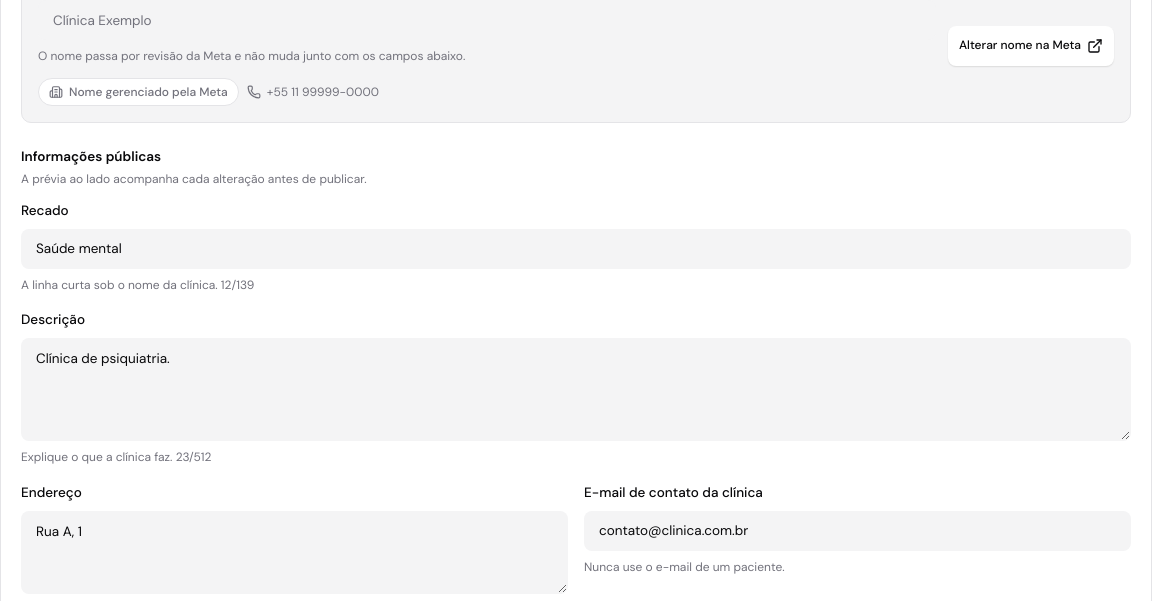
salvar › passa a exibir o que a Meta devolveu, não o que foi digitado
(page scrolled)
Replace the text in the field labelled "Recado" with "o que eu digitei": coordinates (576, 249) [21, 229, 1131, 269]
(page scrolled)
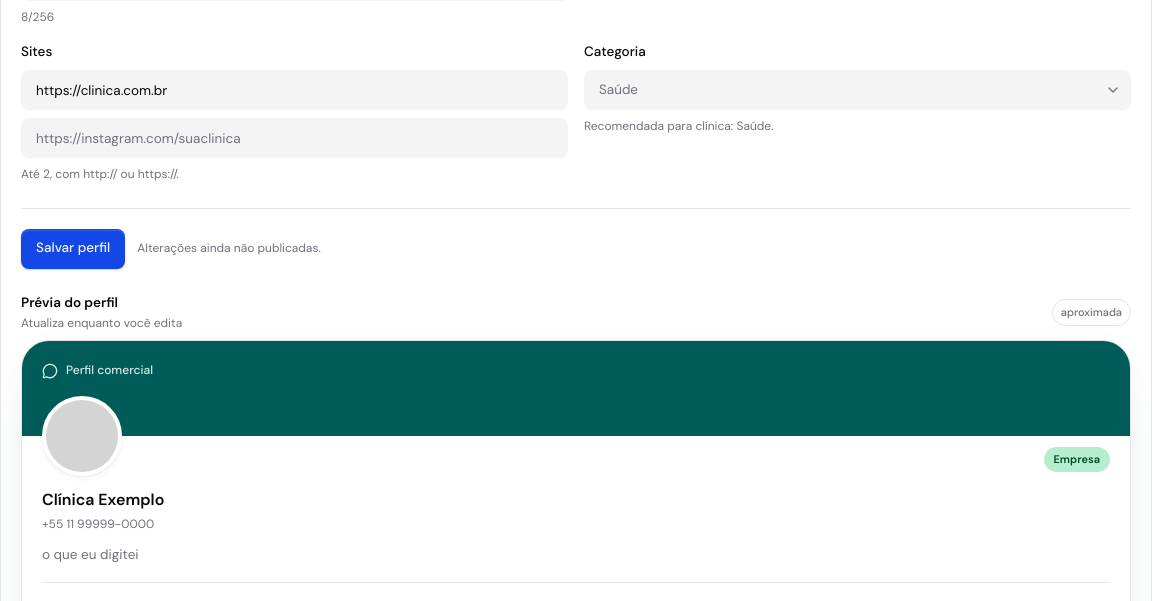
Click the button "Salvar perfil": coordinates (73, 249) [21, 229, 125, 269]
(page scrolled)
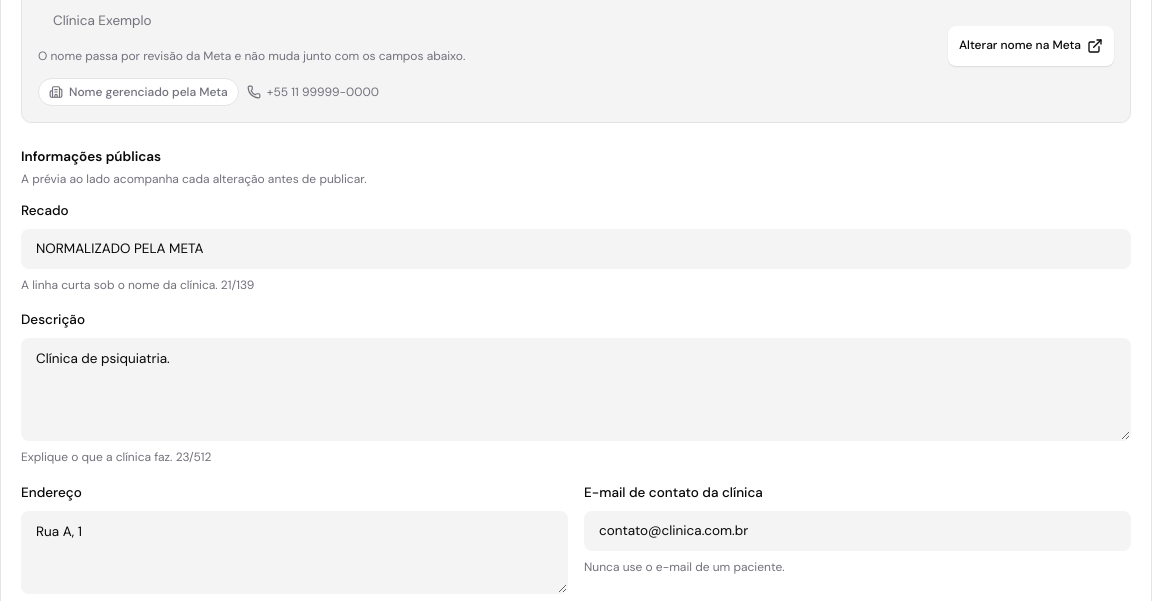
Now the field labelled "Recado" holds "NORMALIZADO PELA META", box [21, 229, 1131, 269]
